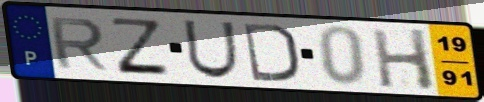0: (315, 23, 372, 89)
D: (241, 21, 302, 84)
H: (368, 27, 438, 93)
R: (46, 16, 111, 72)
U: (180, 18, 241, 80)
Z: (109, 16, 173, 78)
